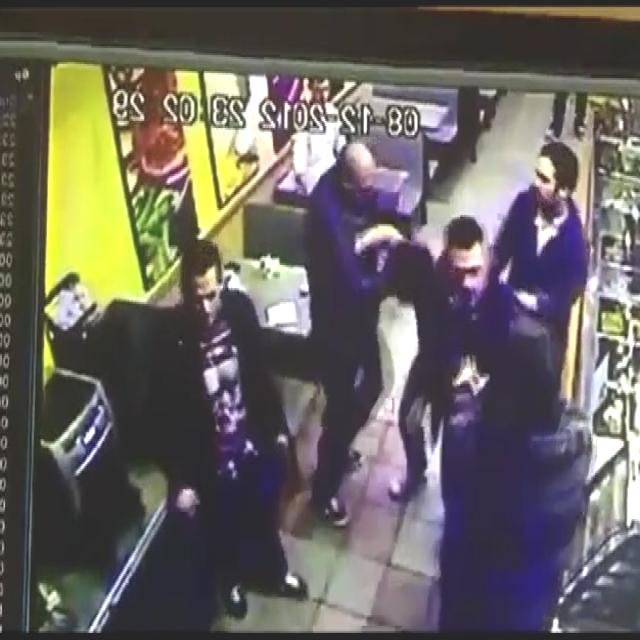fight: (346, 139, 612, 552)
